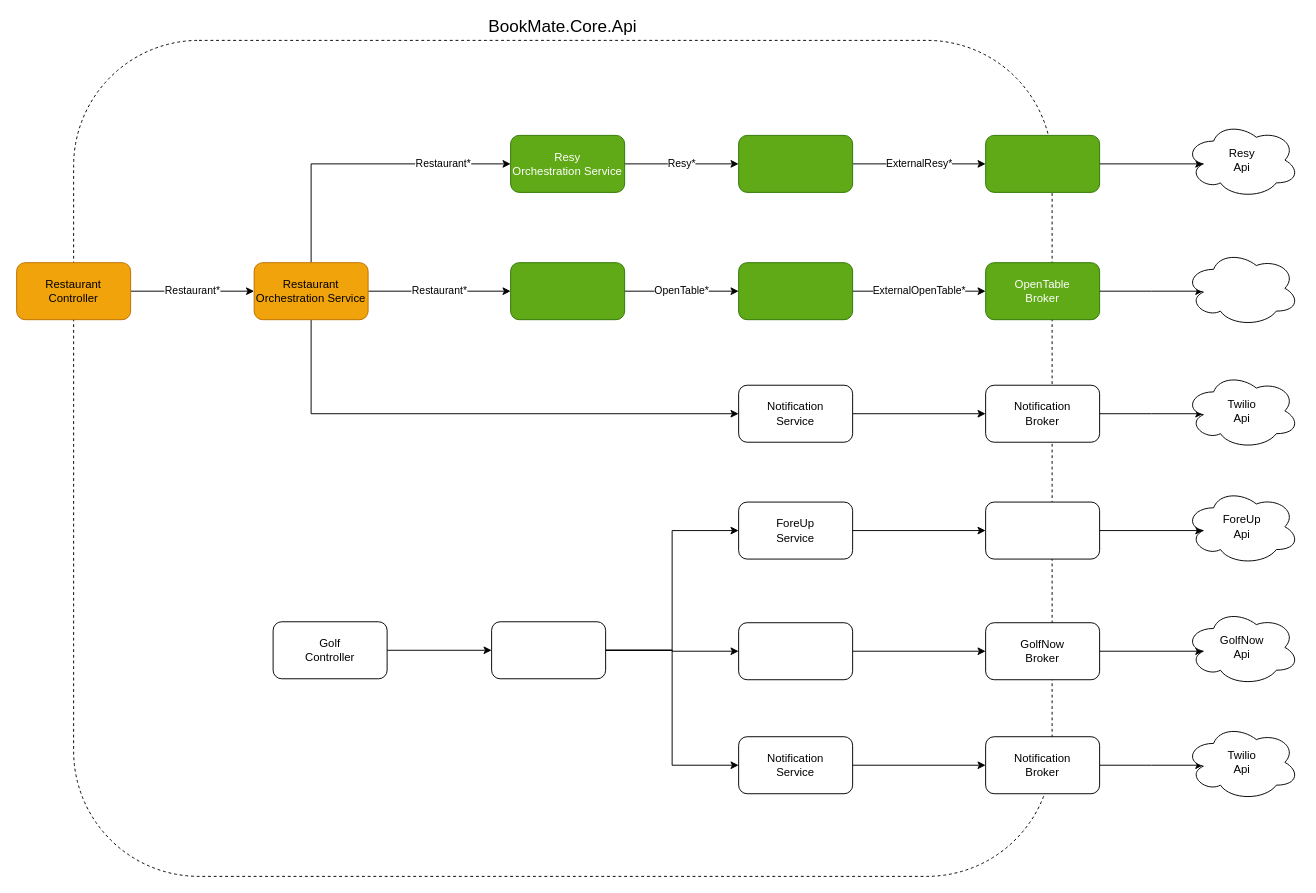
This 1316x893 diagram has some shape labels left out. Each missing label, with the centre of its shape:
"ForeUp Api Broker" goes at (x=1042, y=530).
"Golf Orchestration Service" goes at (x=548, y=650).
"GolfNow Service" goes at (x=795, y=651).
"OpenTable Api" goes at (x=1241, y=287).
"OpenTable Orchestration Service" goes at (x=567, y=291).
"OpenTable Service" goes at (x=795, y=291).
"Resy Api Broker" goes at (x=1042, y=163).
"Resy Service" goes at (x=795, y=163).
